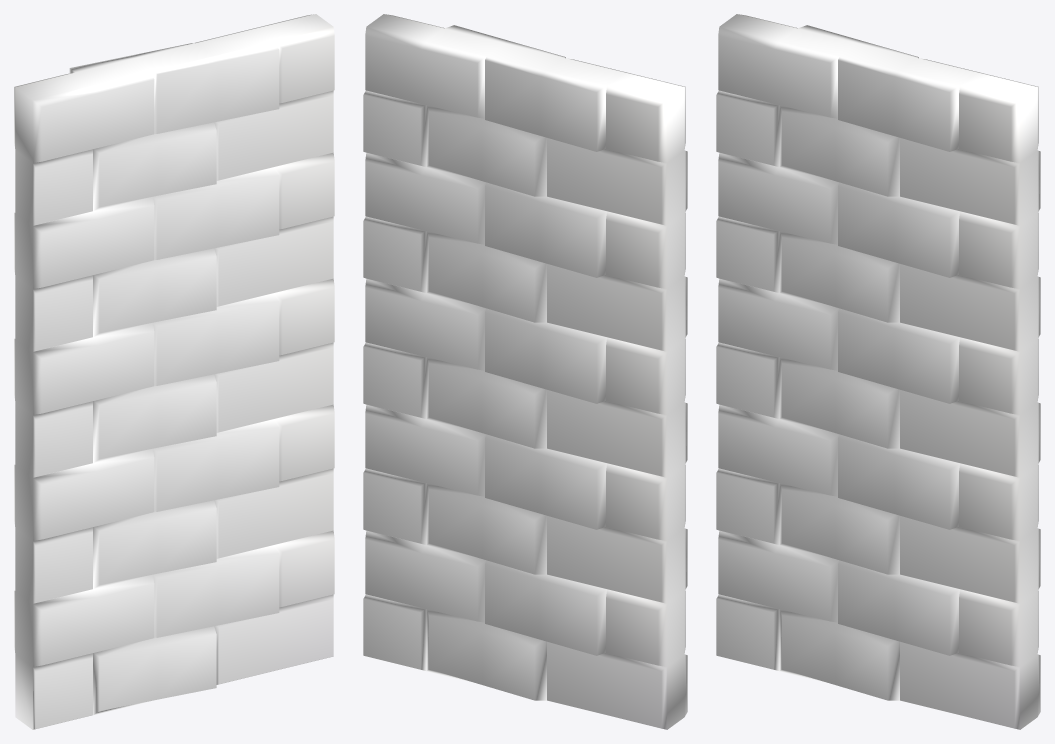
The model's file is 1cb75b3a-f0ab-4227-b5dc-daa46311879f.glb.
The picture shows the model from 3 angles, left to right: view 1: azimuth 30°, elevation 25°; view 2: azimuth 150°, elevation 25°; view 3: azimuth 330°, elevation 25°; orthographic projection.
Visible parts, largest first — view 1: BrickWall.005; view 2: BrickWall.005; view 3: BrickWall.005.
Part boxes in pixels (<box>): BrickWall.005: <box>14,14,334,729</box>; BrickWall.005: <box>363,14,687,729</box>; BrickWall.005: <box>716,14,1040,729</box>.
Size of what is drawn, in the model's own units: 1.99 by 3.98 by 0.3841.
1 material, 1 textured.
